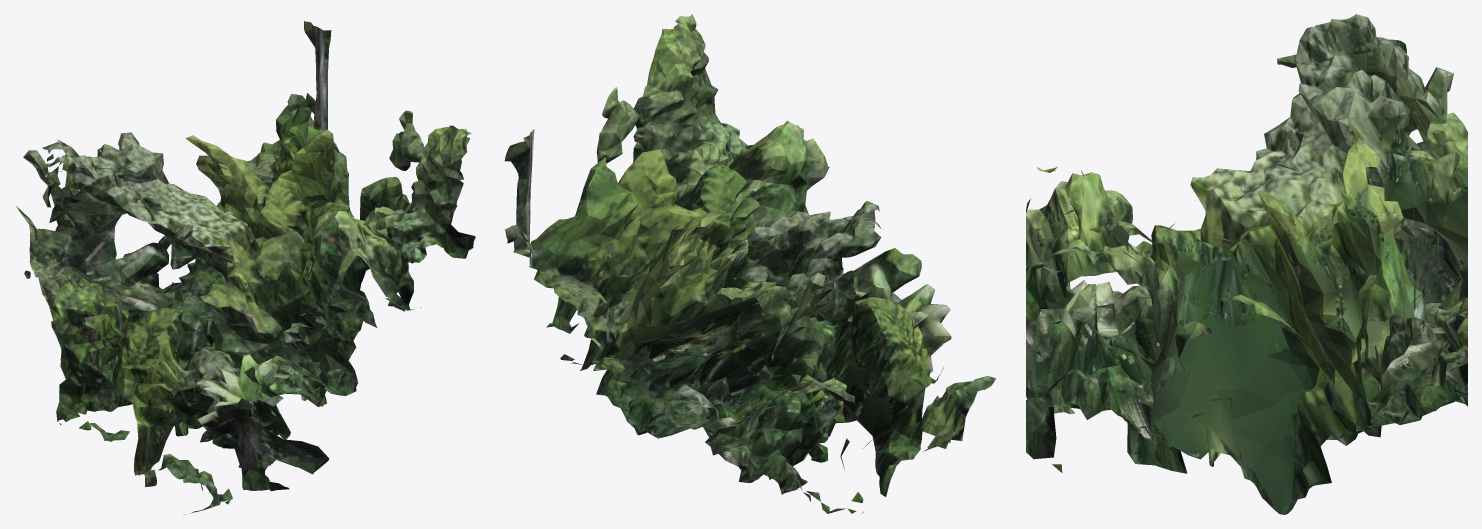
3 renders of one model, left to right at view 1: azimuth 30°, elevation 25°; view 2: azimuth 150°, elevation 25°; view 3: azimuth 270°, elevation 25°, orthographic. The views are drawn at different scales.
Bounding box in the file's own units: 26.11 × 26.11 × 26.11.
10 materials, 10 textured.
